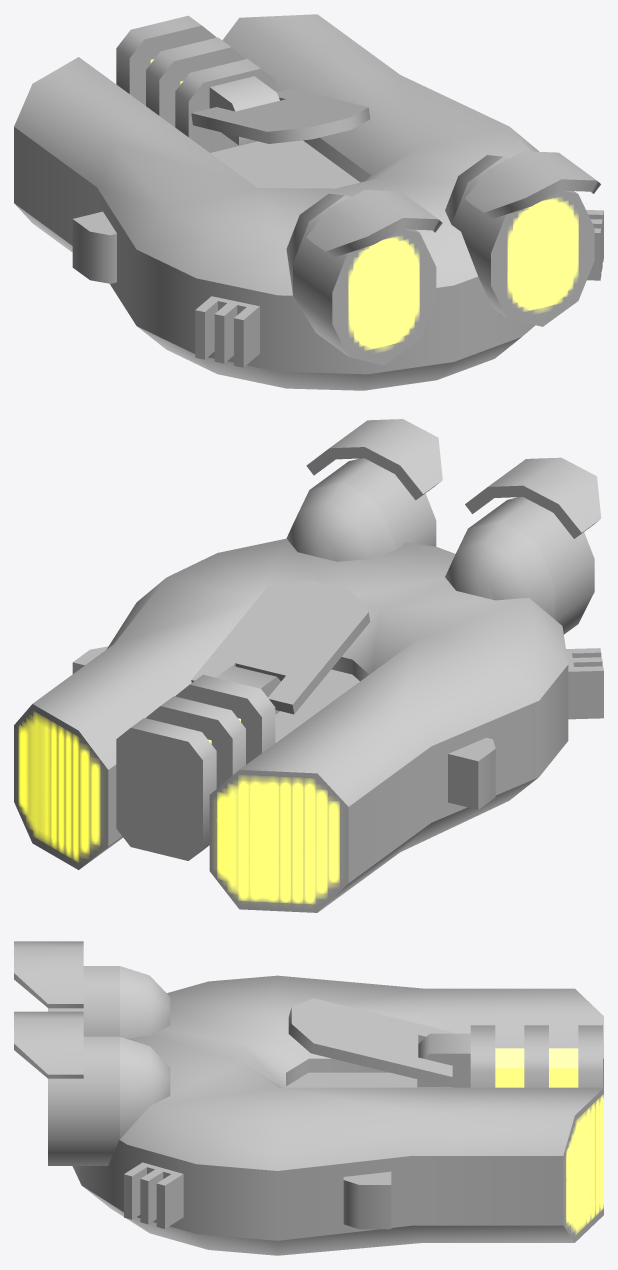
The model's file is Enemy_Gauss.gltf.
3 renders of one model, top to bottom at view 1: azimuth 30°, elevation 25°; view 2: azimuth 150°, elevation 25°; view 3: azimuth 270°, elevation 25°, orthographic. The views are drawn at different scales.
Visible parts, largest first — view 1: imported_Meshes; view 2: imported_Meshes; view 3: imported_Meshes.
Part boxes in pixels (<box>): imported_Meshes: <box>14,14,603,390</box>; imported_Meshes: <box>14,419,603,912</box>; imported_Meshes: <box>14,941,603,1255</box>.
Size of the model in its own units: 0.2479 by 0.1246 by 0.3396.
